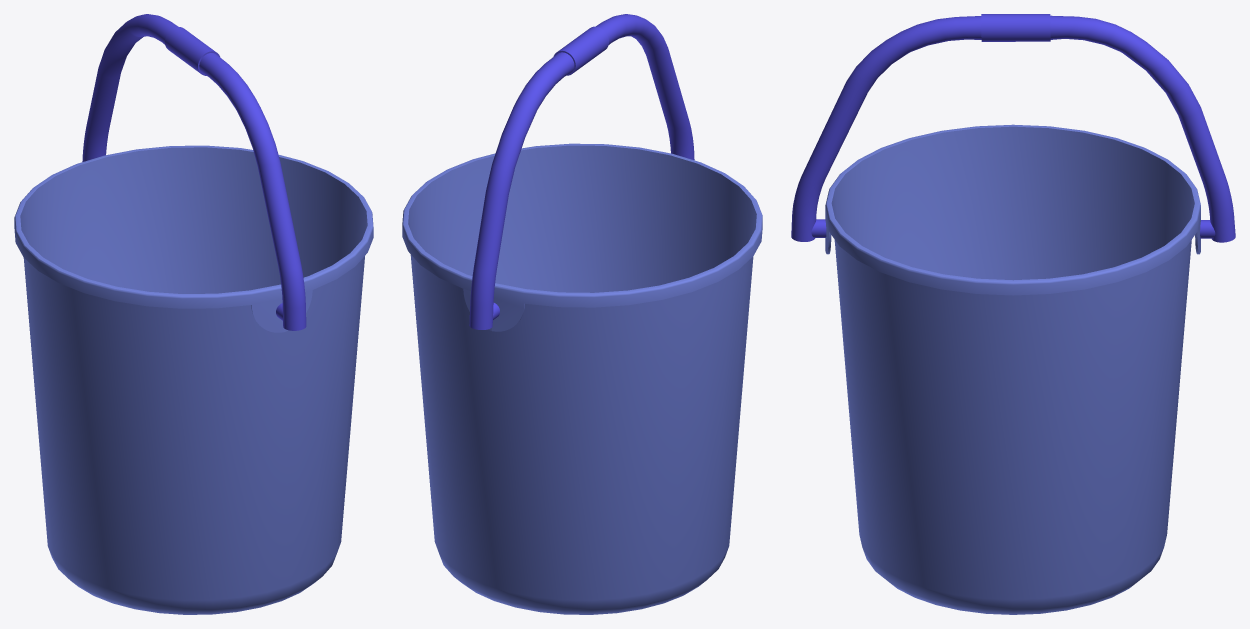
File: water_baskets.glb
The picture shows the model from 3 angles, left to right: view 1: azimuth 30°, elevation 25°; view 2: azimuth 150°, elevation 25°; view 3: azimuth 270°, elevation 25°; orthographic projection. The views are drawn at different scales.
Parts seen in each view (by area): view 1: Cylinder.004; view 2: Cylinder.004; view 3: Cylinder.004.
Boxes of the visible parts, x1=… form: Cylinder.004: x1=14, y1=14, x2=373, y2=614; Cylinder.004: x1=402, y1=14, x2=762, y2=614; Cylinder.004: x1=791, y1=14, x2=1235, y2=614.
Size of the model in its own units: 0.6821 by 1.09 by 0.8071.
